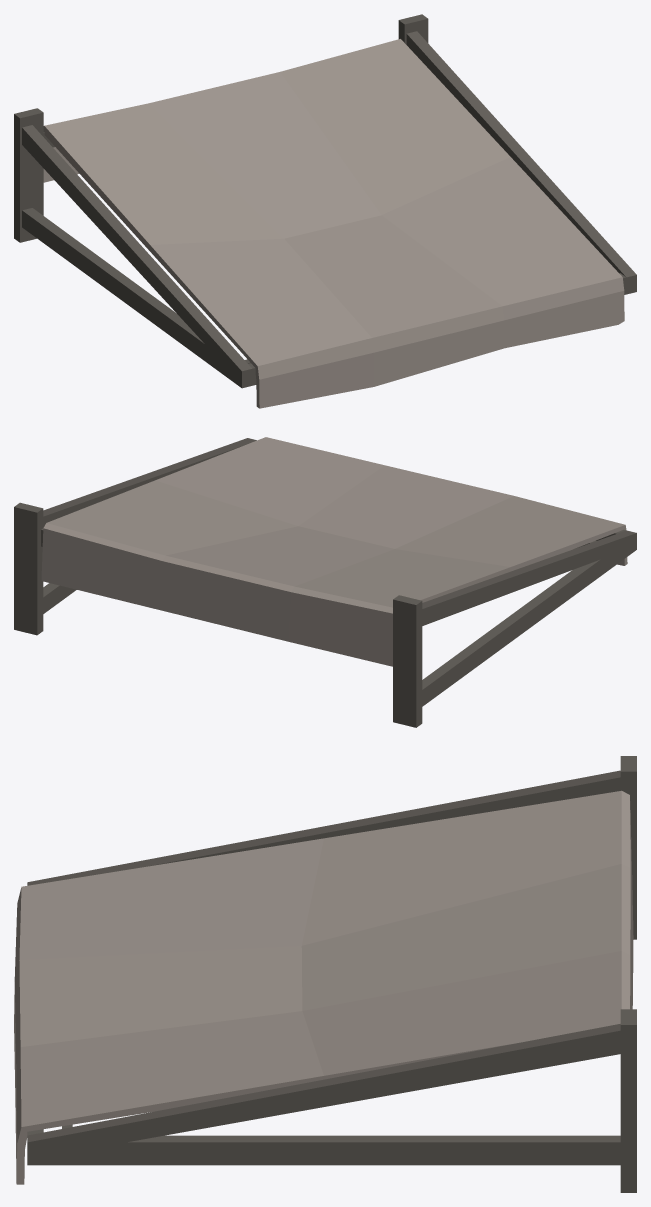
File: SM_Bld_Shops_ClothCover_Small_01.glb
The picture shows the model from 3 angles, top to bottom: view 1: azimuth 30°, elevation 25°; view 2: azimuth 150°, elevation 25°; view 3: azimuth 270°, elevation 25°; orthographic projection. The views are drawn at different scales.
Visible parts, largest first — view 1: SM_Bld_Shops_ClothCover_Small_01; view 2: SM_Bld_Shops_ClothCover_Small_01; view 3: SM_Bld_Shops_ClothCover_Small_01.
Boxes of the visible parts, bbox=[...] form: SM_Bld_Shops_ClothCover_Small_01: bbox=[14, 14, 636, 408]; SM_Bld_Shops_ClothCover_Small_01: bbox=[14, 437, 636, 727]; SM_Bld_Shops_ClothCover_Small_01: bbox=[14, 756, 636, 1192].
Size of the model in its own units: 2.96 by 0.9382 by 2.89.
Materials: 1 (1 with a texture image).
